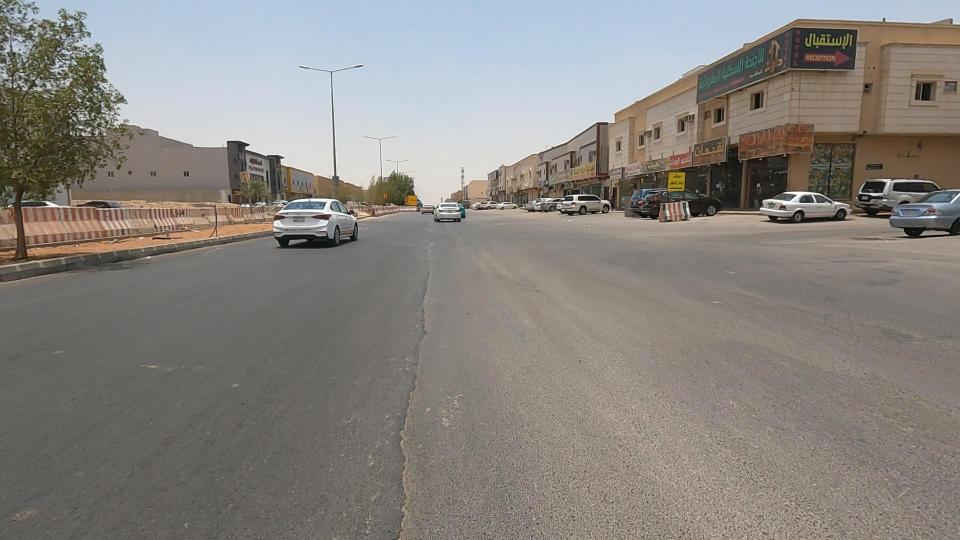CONSTRUCTION_ROAD: (0, 169, 169, 271), (93, 177, 260, 267), (186, 171, 292, 248), (345, 181, 424, 239)
